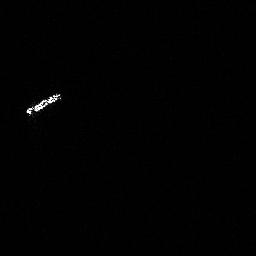ship: (26, 92, 61, 115)
